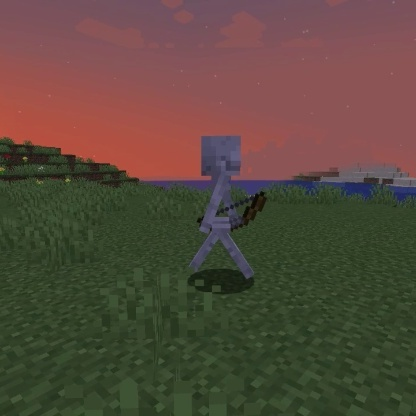skeleton: (185, 132, 270, 283)
